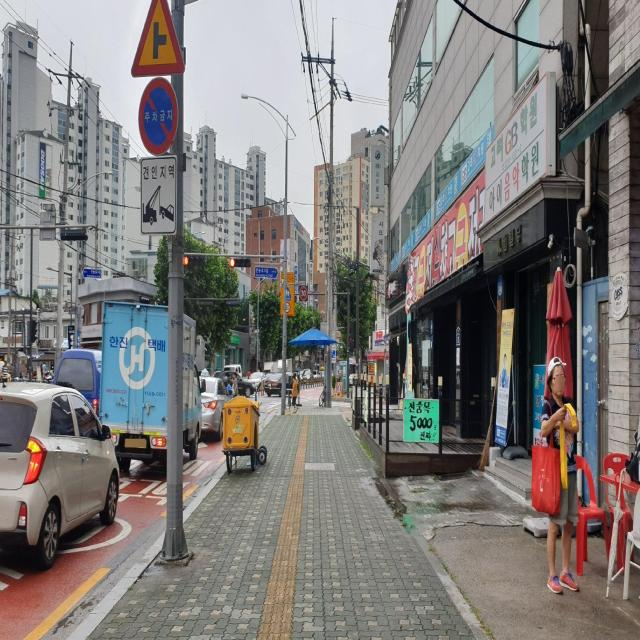car ahead at: (0, 364, 122, 579)
electric pole ahead at: (128, 2, 209, 588)
person ahead at: (536, 347, 586, 607)
